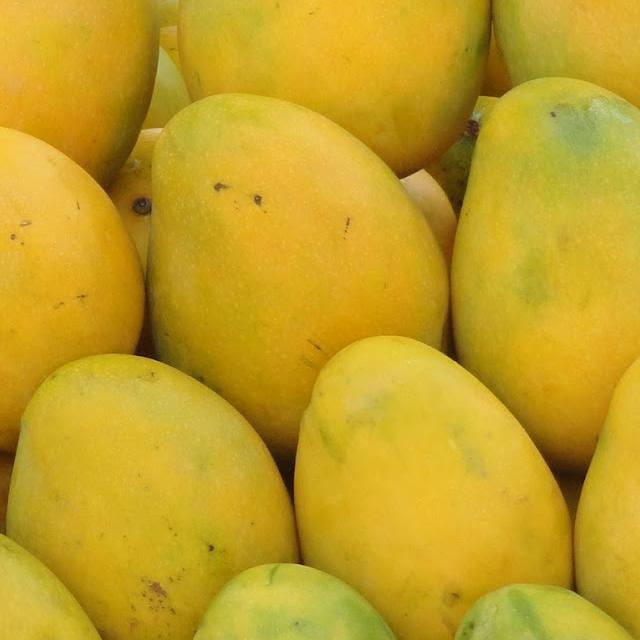mango: (146, 100, 447, 450), (9, 356, 304, 640), (299, 338, 575, 640), (465, 82, 640, 468), (181, 0, 485, 172)
